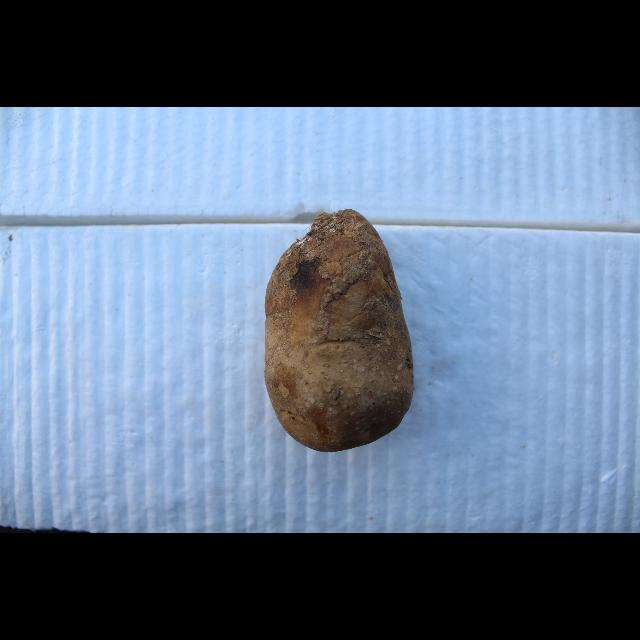Diseased-fungal potato: (260, 206, 418, 452)
